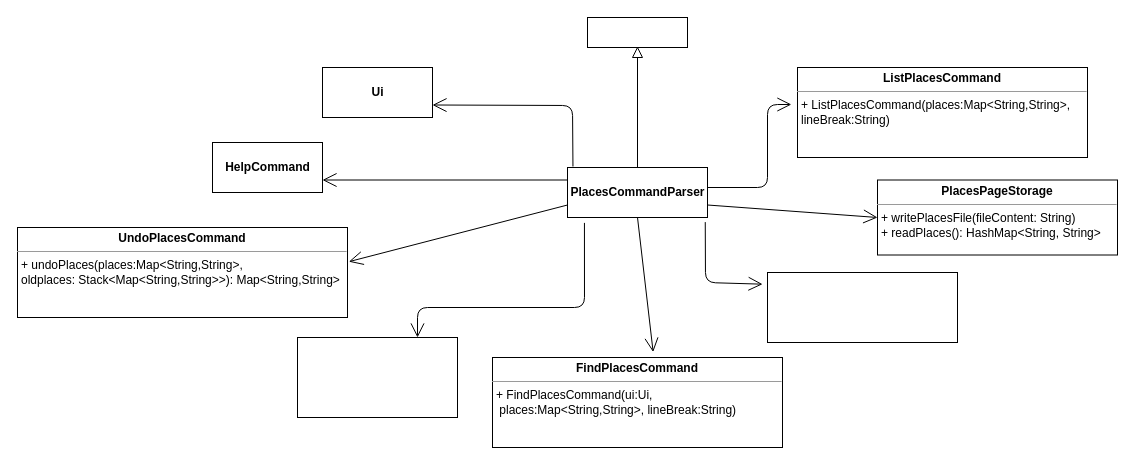
Image size: 1135x465. Some labels were removed from this diagram. Here are the shapes that lost their labels. From the top down, the box of each, then its label:
(586, 16, 688, 48): Command
(766, 272, 958, 342): DeletePlacesCommand + DeletePlacesCommand(ui:Ui, places: Map<String,String>)
(296, 336, 458, 418): AddPlacesCommand + AddPlacesCommand(ui:Ui, places: Map<String,String>)
